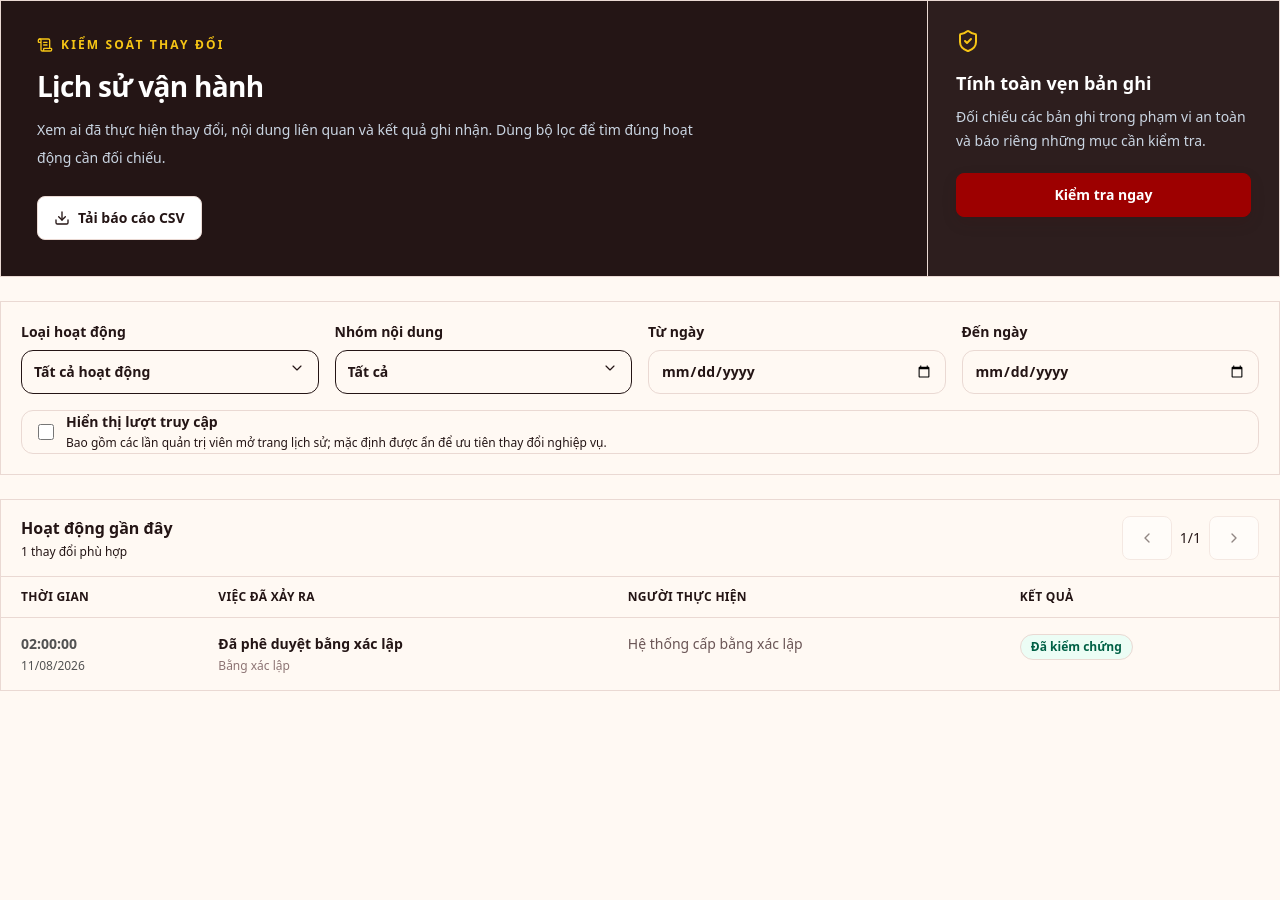
Scenario: AuditWorkspace › does not present a bounded integrity scan as a complete result
This screenshot has width=1280, height=900.
Click the button "Kiểm tra ngay".
click(1104, 195)  # box left=956, top=173, right=1251, bottom=217
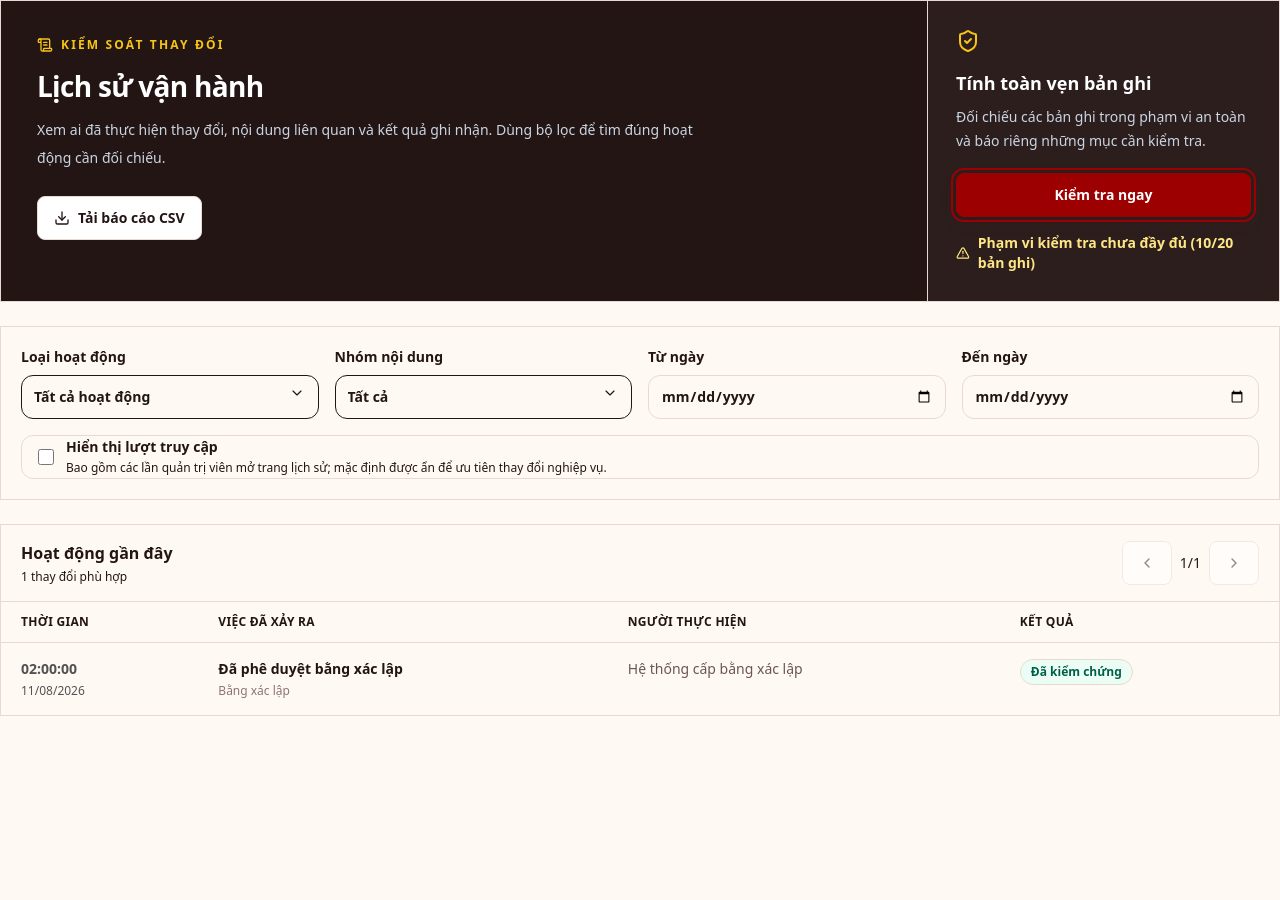
Now the text "Phạm vi kiểm tra chưa đầy đủ (10/20 bản ghi)" is shown, box left=956, top=233, right=1251, bottom=273
